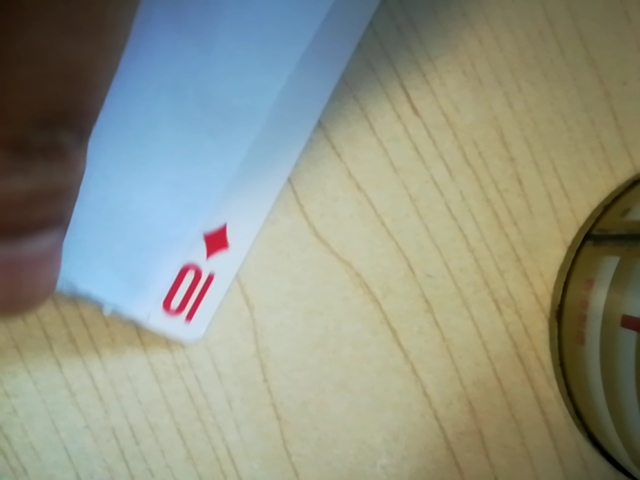fk 10: (149, 217, 236, 332)
